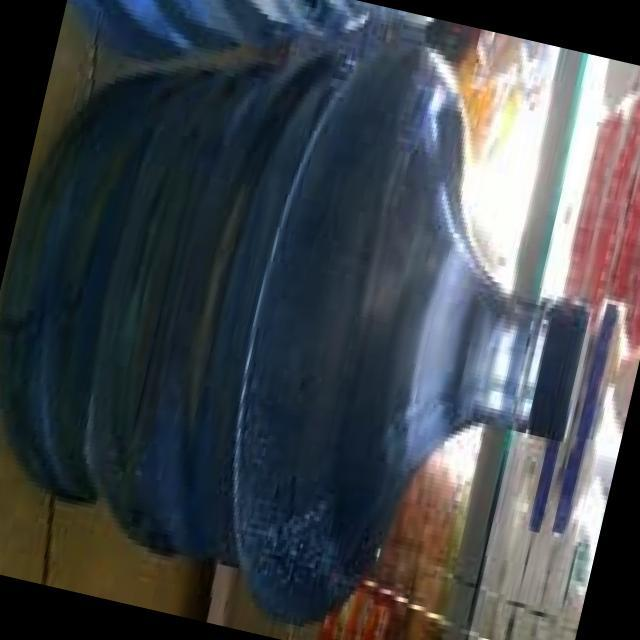HDPE Plastic: (6, 42, 596, 618)
